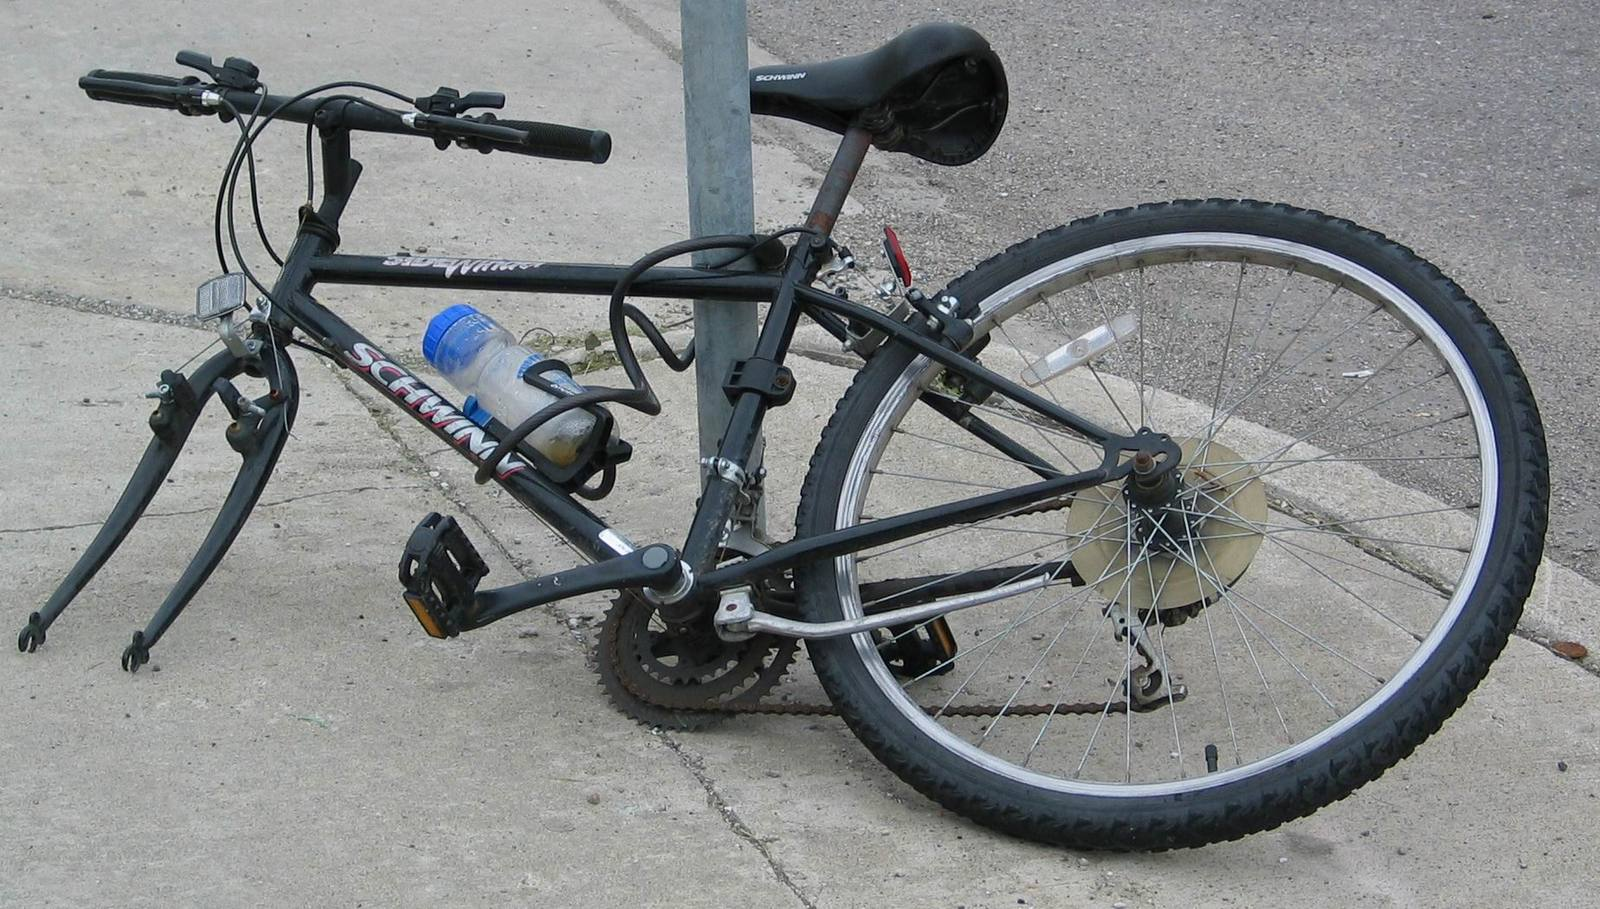Bicycle: (25, 16, 1599, 909)
